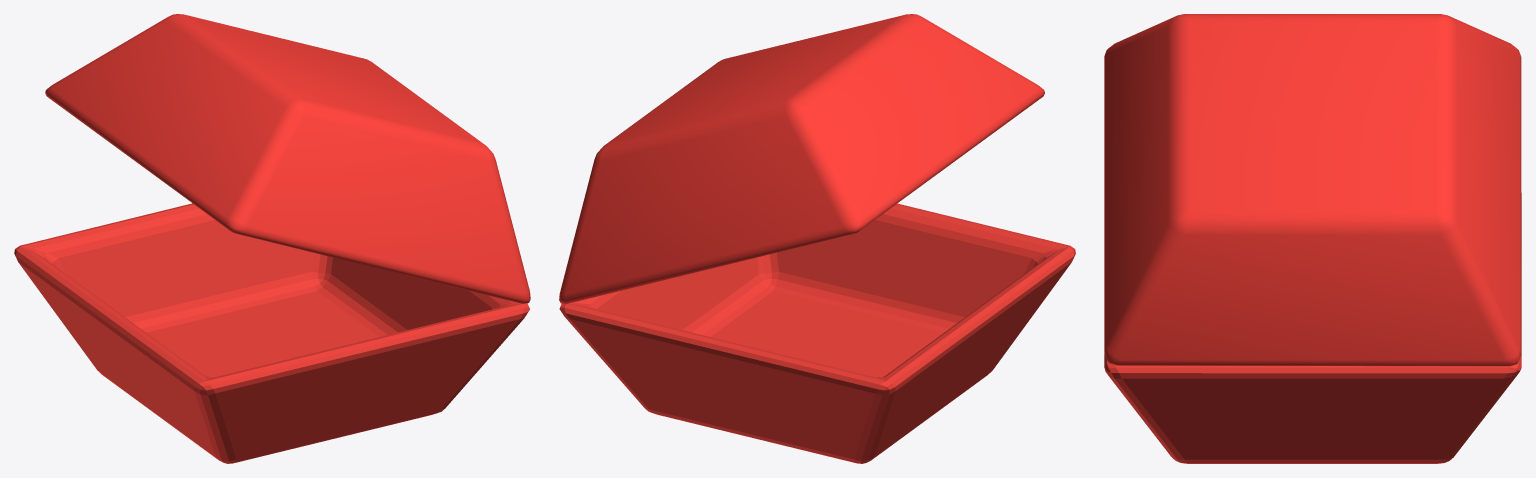
File: burgerkabı.fbx
3 renders of one model, left to right at view 1: azimuth 30°, elevation 25°; view 2: azimuth 150°, elevation 25°; view 3: azimuth 270°, elevation 25°, orthographic. The views are drawn at different scales.
Parts seen in each view (by area): view 1: kap1, kap2; view 2: kap1, kap2; view 3: kap2, kap1.
Boxes of the visible parts, <box> form: kap1: <box>14,203,529,463</box>; kap2: <box>45,14,530,303</box>; kap1: <box>559,203,1075,463</box>; kap2: <box>559,14,1044,304</box>; kap2: <box>1104,14,1521,366</box>; kap1: <box>1104,354,1521,463</box>.
Bounding box in the file's own units: 394 × 393 × 390.
